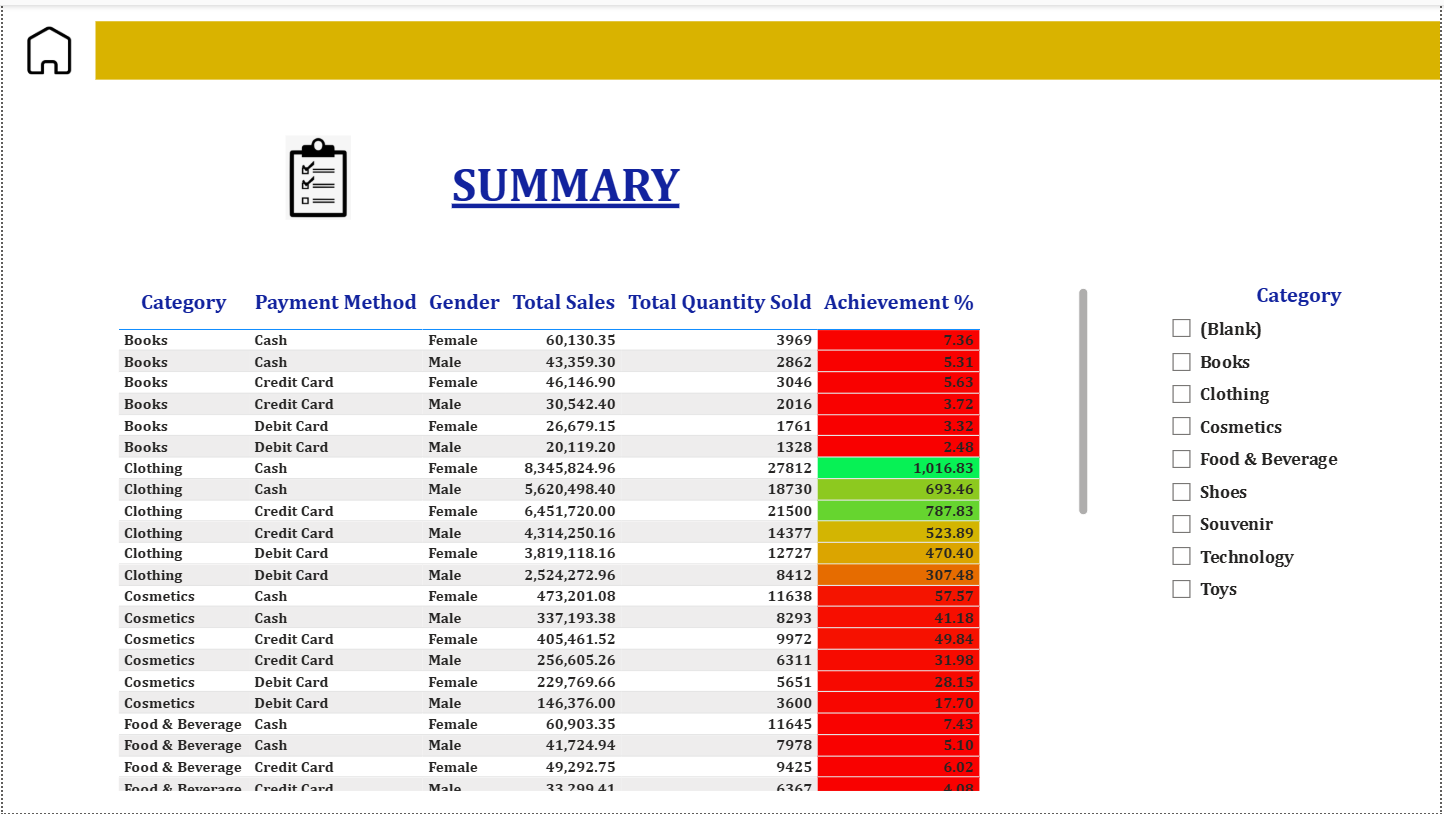

What the dashboard file says about the page in this screenshot:
{"tool":"powerbi","page":{"name":"Summary","canvas":[1280,720],"ordinal":3},"visuals":[{"type":"textbox","box":[0,111.1,1279.7,111.1],"z":0},{"type":"image","box":[0,14.4,82.2,51.9],"z":1000},{"type":"tableEx","fields":{"Values":["Sheet1.category","Sheet1.payment_method","Sheet1.gender","Sheet1.Total Sales","Sheet1.Total Quantity Sold","Sheet1.Achievement %"]},"box":[97.1,246.9,874.9,457.8],"z":2000},{"type":"textbox","box":[82.2,14.4,1197.5,51.9],"z":3000},{"type":"image","box":[231.5,111.3,99.1,84.6],"z":4000},{"type":"slicer","title":"Category","fields":{"Values":["Sheet1.category"]},"box":[1028.7,246.7,251,366.5],"z":5000}]}

Visuals, with their boxes in screenshot pixels (x1, y1, x2, y2), scaled from the page's 1280x720 canvas onto the 1444x814 screenshot:
textbox: (left=0, top=126, right=1443, bottom=251)
image: (left=0, top=16, right=93, bottom=75)
tableEx - Sheet1.category x Sheet1.payment_method: (left=110, top=279, right=1097, bottom=797)
textbox: (left=93, top=16, right=1443, bottom=75)
image: (left=261, top=126, right=373, bottom=221)
"Category" slicer: (left=1161, top=279, right=1443, bottom=693)
